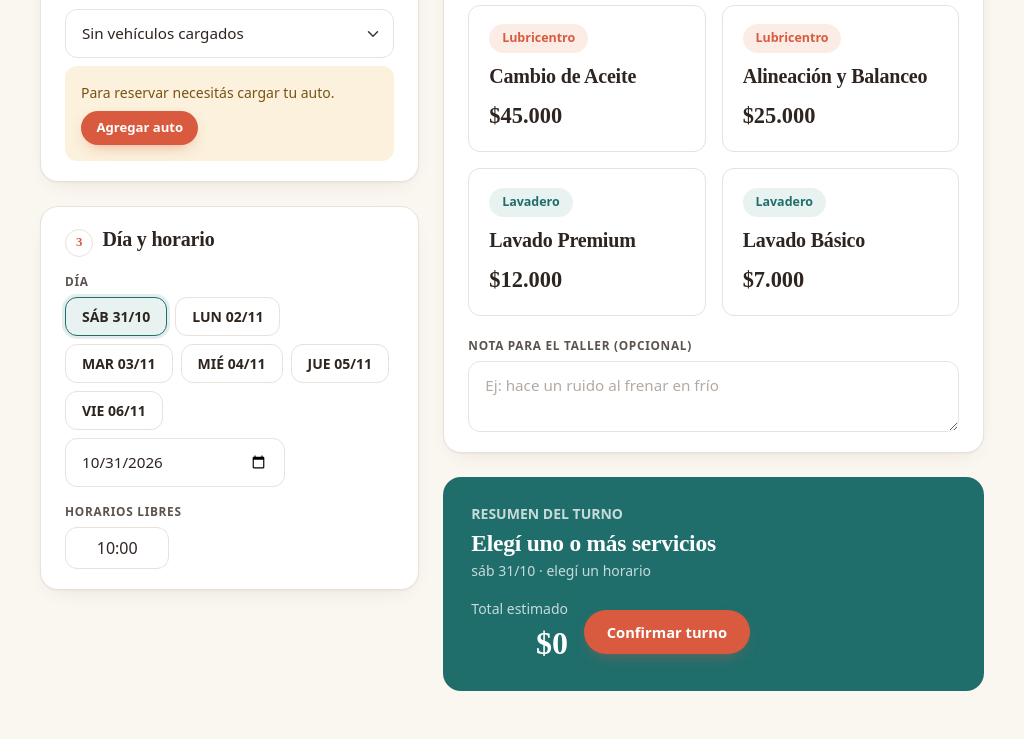
Test case: AltaTurno: elegir varios servicios (Dado / Cuando / Entonces) › Dado un cliente sin autos, Cuando entra a reservar, Entonces le pide cargar uno y no reserva sin vehículo
(page scrolled)
Expected: the text "Para reservar necesitás cargar tu auto." is shown, [81, 83, 334, 102]
Click the button "Confirmar turno" at (667, 632), box [584, 610, 750, 654]
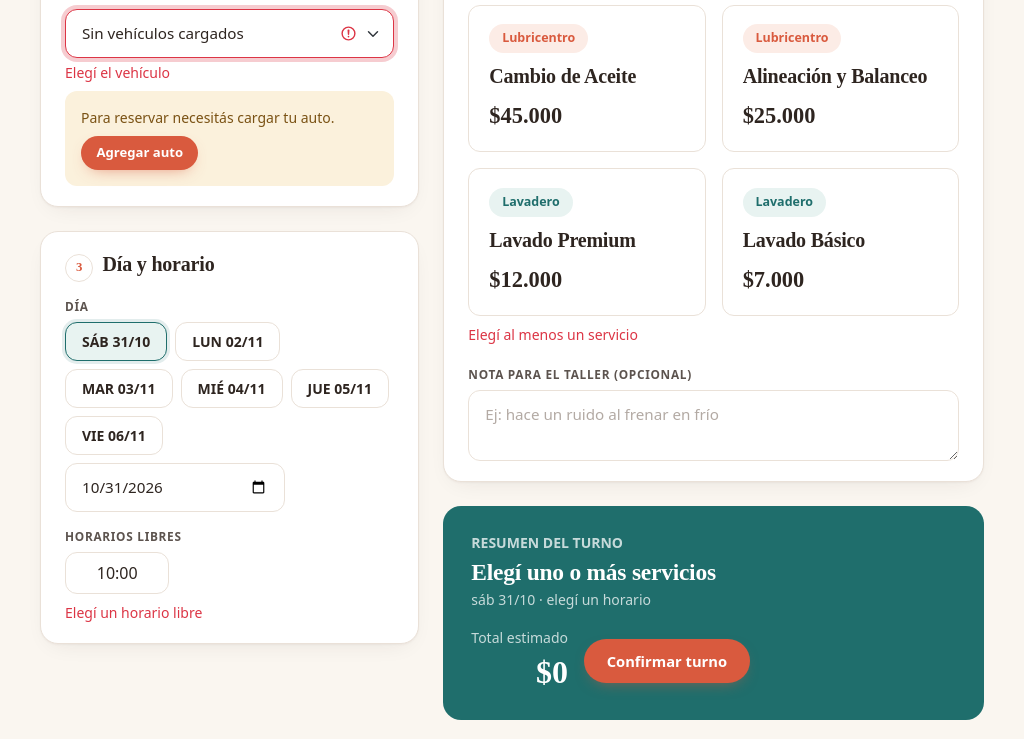
Result: the text "Elegí el vehículo" is shown at [65, 63, 170, 82]
